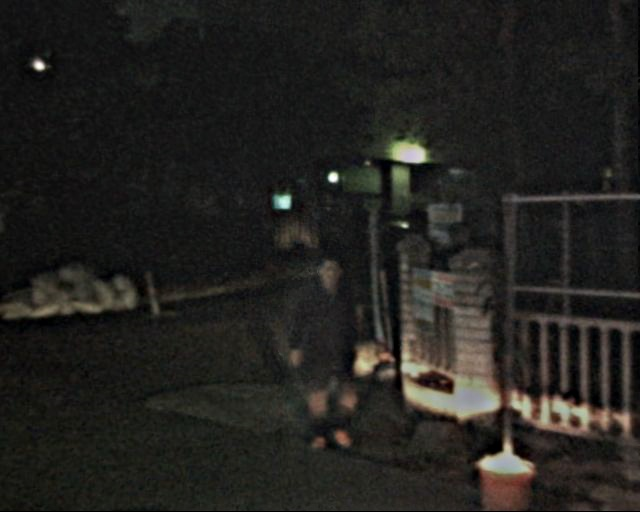person: (289, 250, 370, 457)
